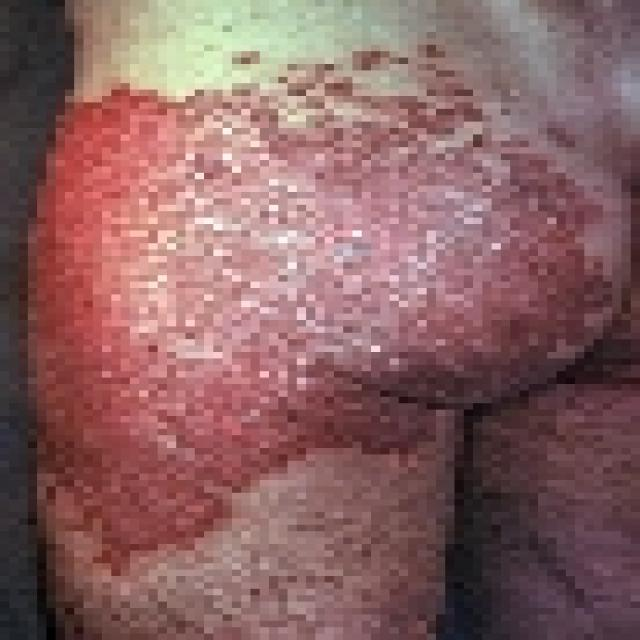lupus: (35, 71, 585, 554)
